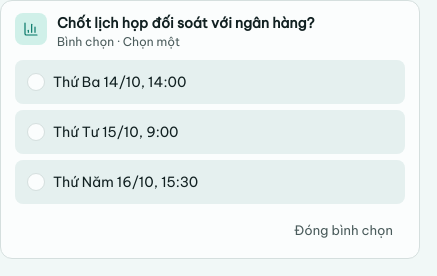
Test: PollCard › closes the poll and shows its results
Click the button "Đóng bình chọn": (343, 230) top-left (282, 215), bottom-right (405, 245)
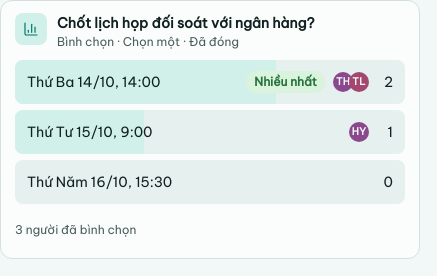
Check: the number of elements with test id "poll-count" is 3, box top-left (384, 72), bottom-right (393, 90); top-left (388, 122), bottom-right (393, 140); top-left (384, 172), bottom-right (393, 190)
Check: the radio button is gone
